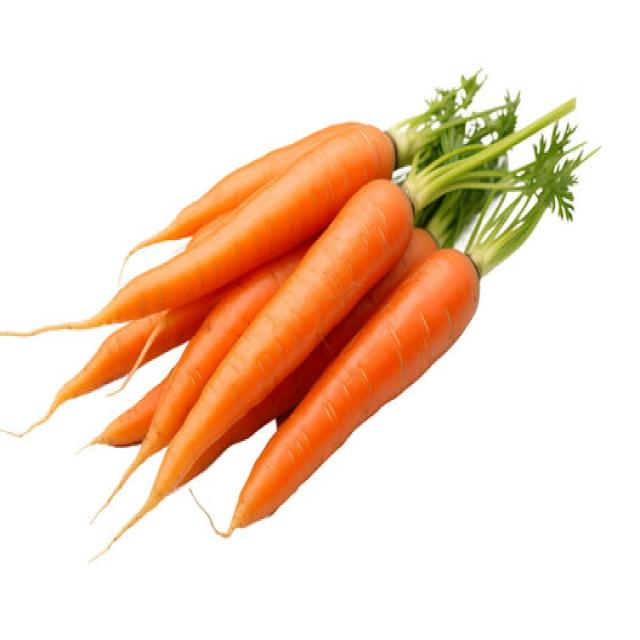Carrot: (87, 174, 418, 556), (0, 119, 398, 337), (187, 242, 480, 538), (75, 236, 312, 454), (118, 119, 356, 279), (0, 284, 221, 438), (273, 226, 437, 428), (76, 366, 172, 454)
